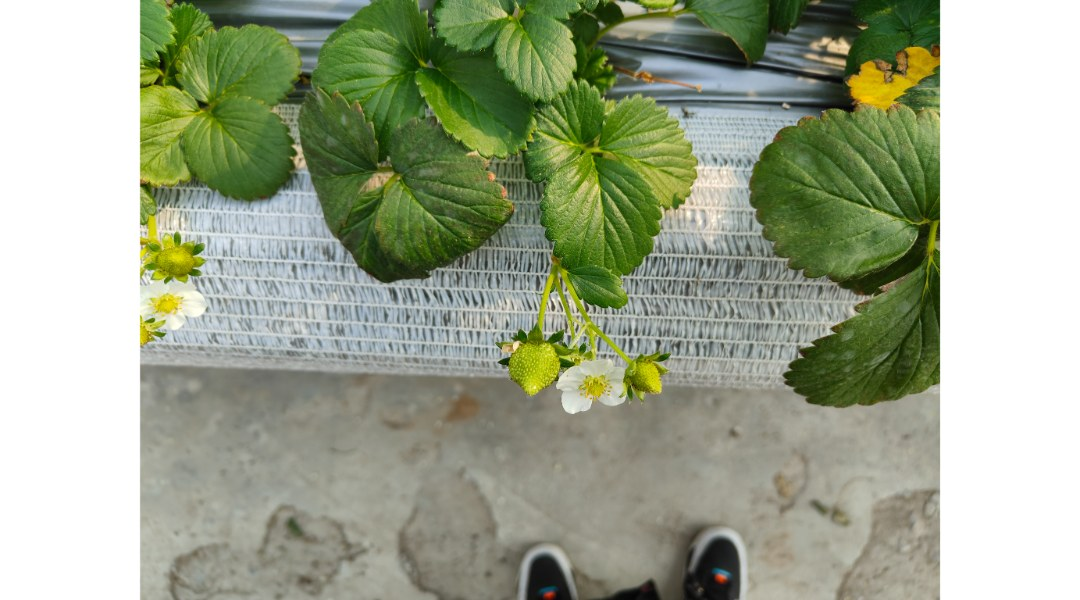berry: (492, 319, 562, 393), (618, 346, 681, 397)
flower: (554, 355, 632, 412)
strain: (598, 330, 638, 359), (564, 273, 588, 316), (556, 285, 574, 333), (533, 281, 549, 327)
